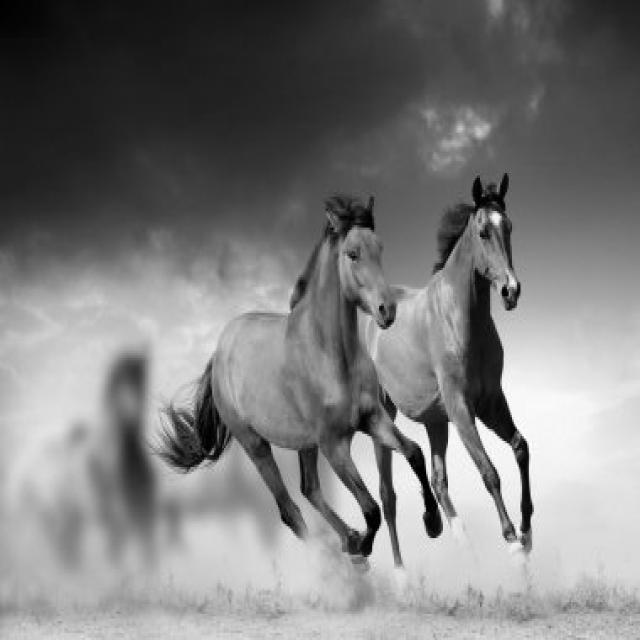Animal: (160, 194, 443, 560), (366, 177, 529, 551)
